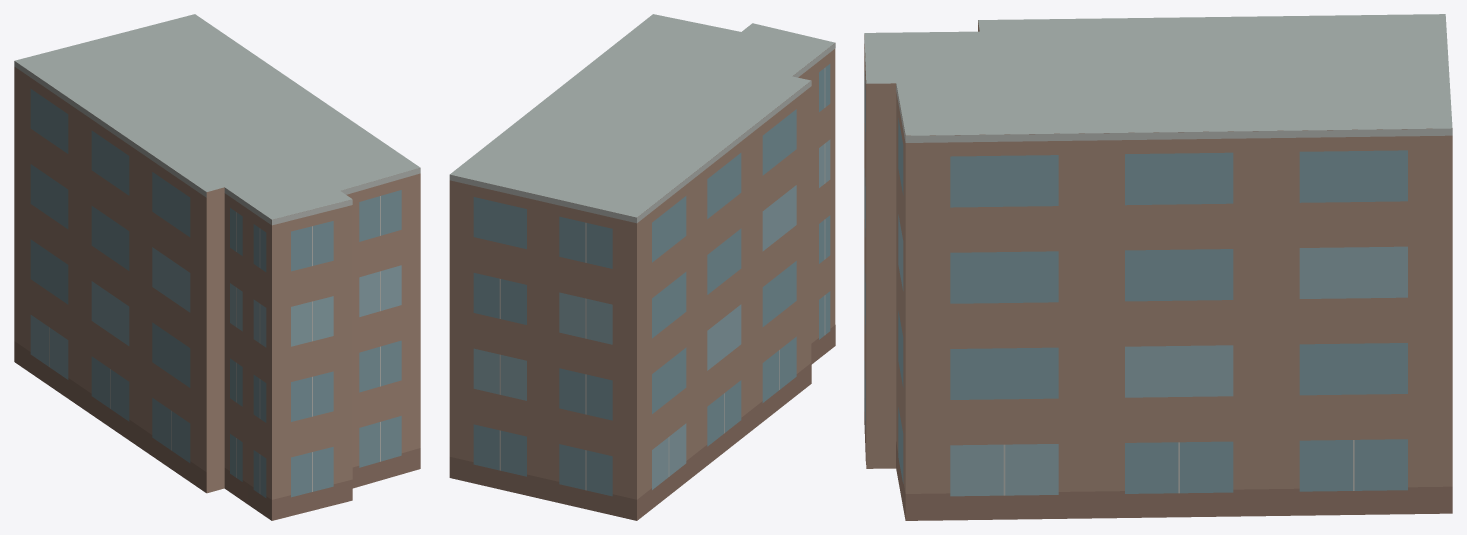
File: survey-upis-32547545.glb
3 renders of one model, left to right at view 1: azimuth 30°, elevation 25°; view 2: azimuth 150°, elevation 25°; view 3: azimuth 270°, elevation 25°, orthographic. The views are drawn at different scales.
Visible parts, largest first — view 1: survey-upis-32547545.tmp; view 2: survey-upis-32547545.tmp; view 3: survey-upis-32547545.tmp.
Part boxes in pixels (x1,y1,x2,y2): survey-upis-32547545.tmp: [14, 14, 420, 520]; survey-upis-32547545.tmp: [449, 14, 835, 520]; survey-upis-32547545.tmp: [864, 14, 1452, 520].
Bounding box in the file's own units: 8.76 × 12.9 × 17.87.
